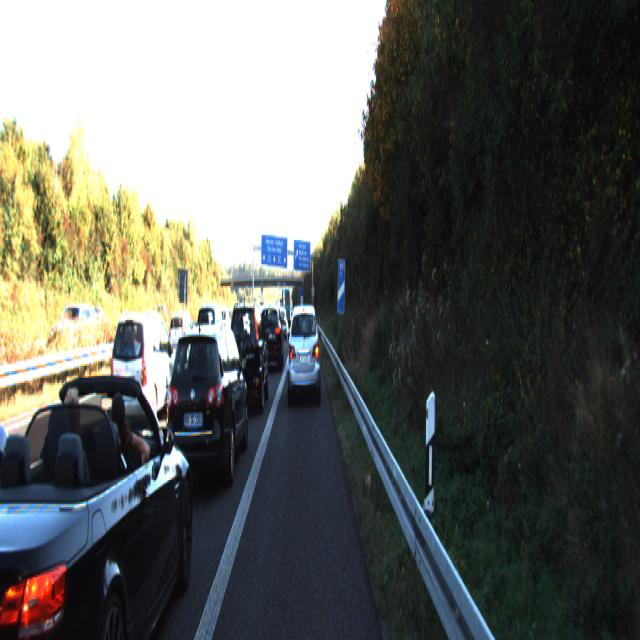Car: (0, 357, 200, 638), (161, 317, 250, 501), (108, 308, 180, 432), (223, 301, 270, 417), (287, 301, 321, 405), (194, 304, 228, 379), (258, 300, 284, 372), (168, 310, 197, 362)
